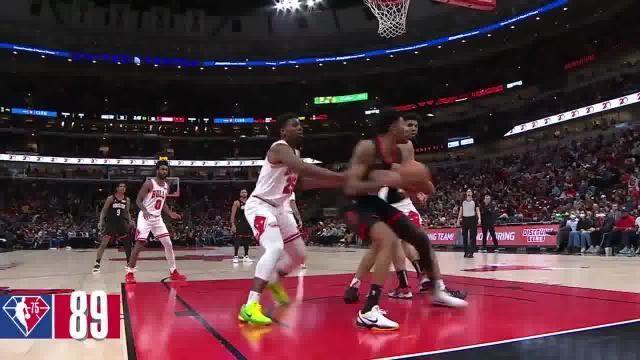ball-handler: (338, 111, 431, 330)
player: (240, 111, 327, 330), (127, 158, 186, 282), (89, 181, 133, 276), (227, 188, 255, 265)
